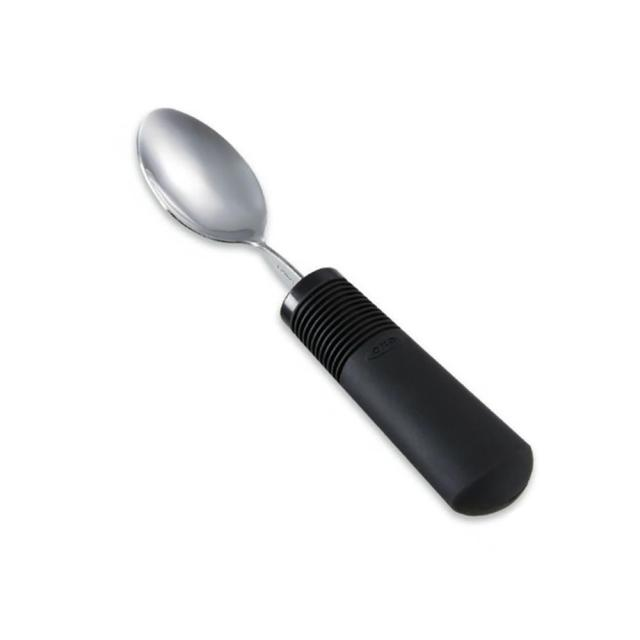spoon: (118, 97, 547, 530)
